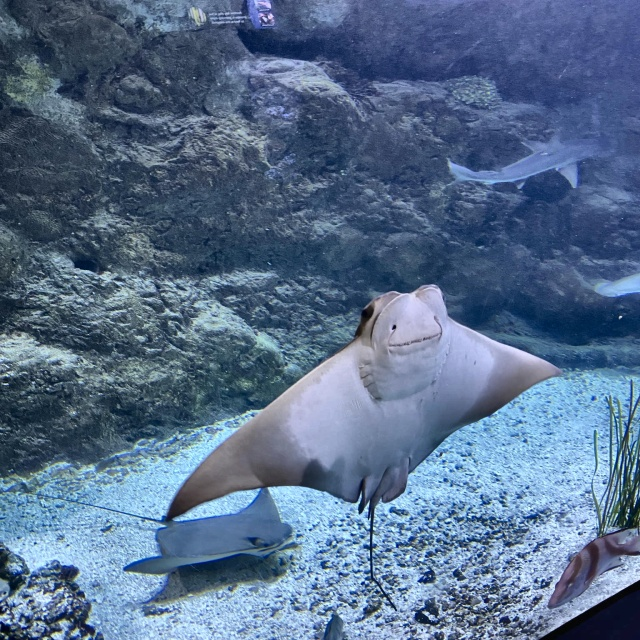fish: (548, 528, 639, 610)
shark: (447, 138, 598, 189), (594, 272, 639, 297)
stingray: (167, 284, 562, 519), (124, 487, 293, 575)
